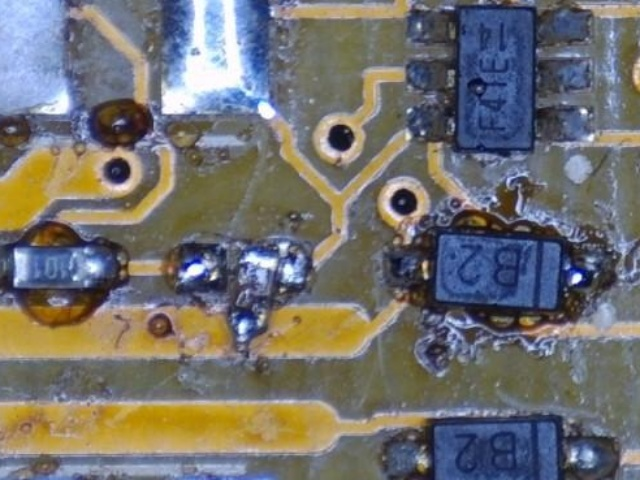pcb_defect: (231, 238, 308, 346), (539, 6, 592, 44), (537, 105, 590, 141), (539, 59, 591, 91)
